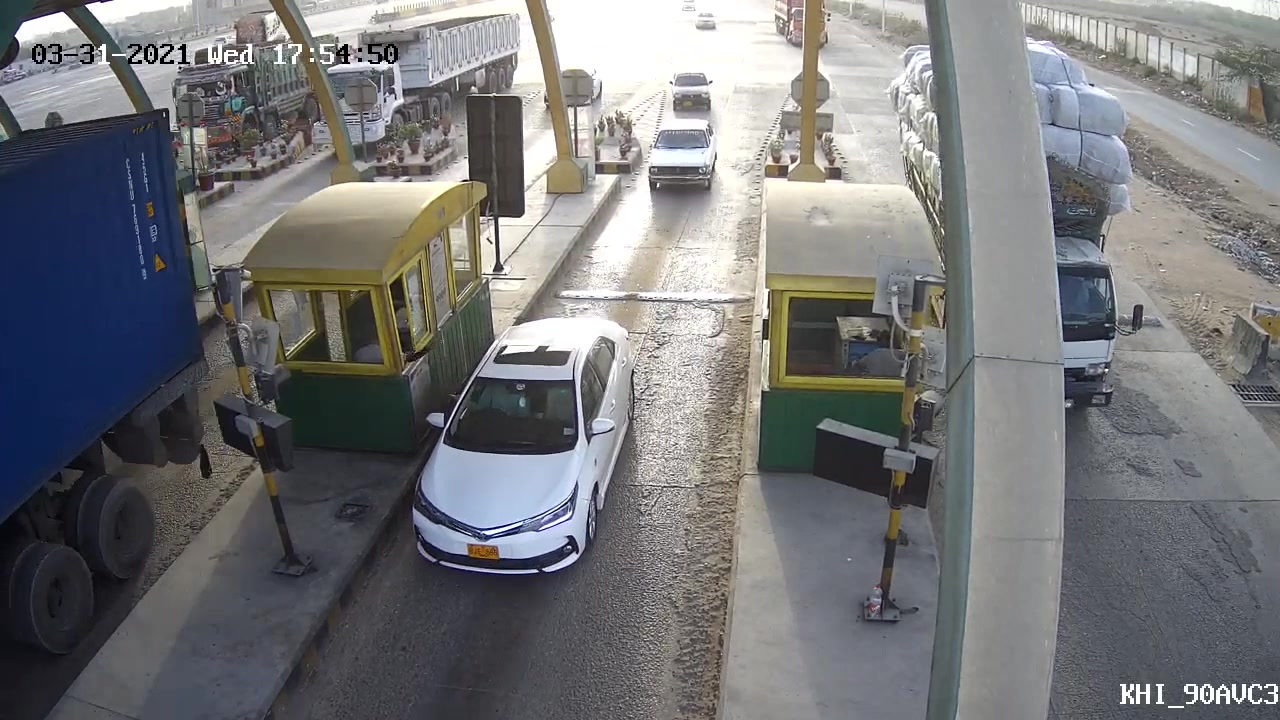F1: (414, 312, 642, 576)
